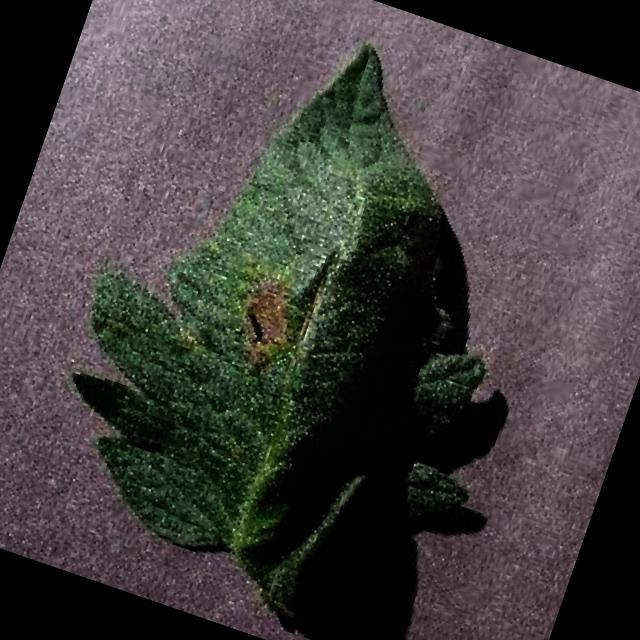Tomato Early blight leaf: (16, 0, 589, 640)
